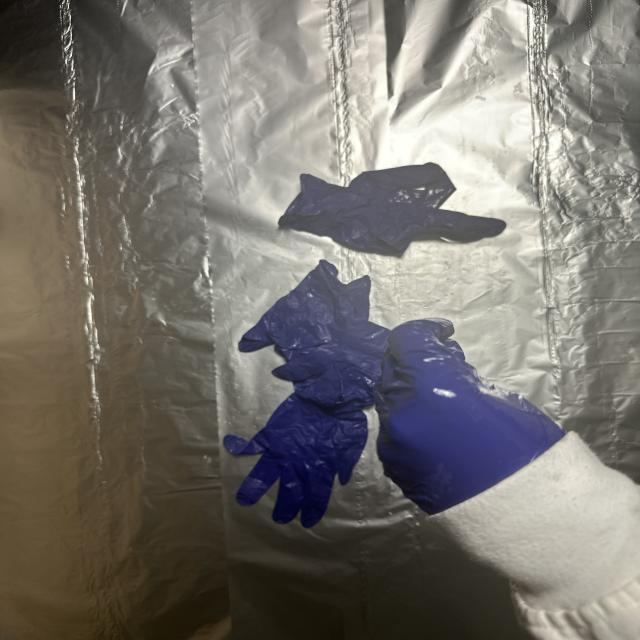gloves_contaminated: (374, 318, 565, 514)
